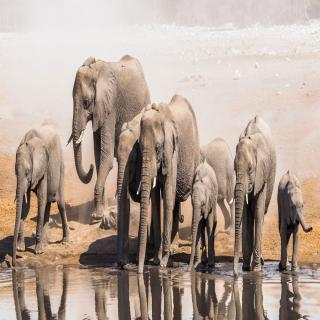Elephant: (67, 49, 153, 223), (136, 90, 202, 282), (11, 118, 71, 266), (228, 113, 276, 274), (114, 113, 142, 278), (277, 168, 313, 274), (188, 157, 218, 273)
